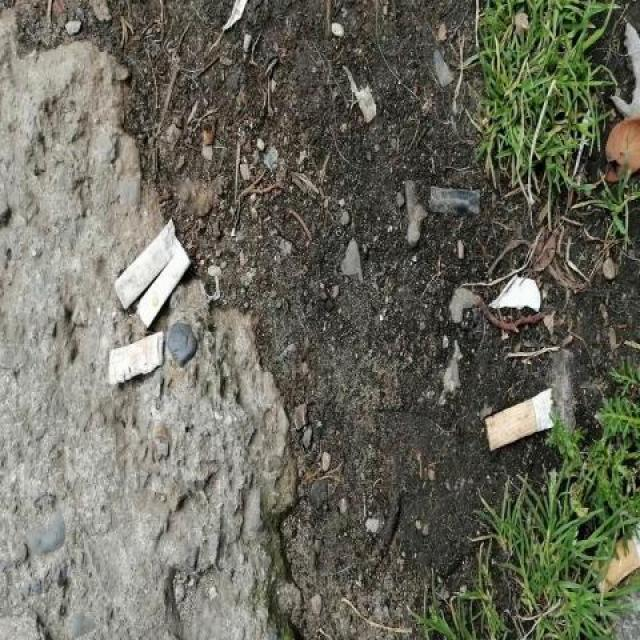non-organic waste: (112, 216, 176, 312), (482, 383, 557, 456), (134, 240, 194, 331), (588, 520, 640, 600), (105, 328, 167, 392)
